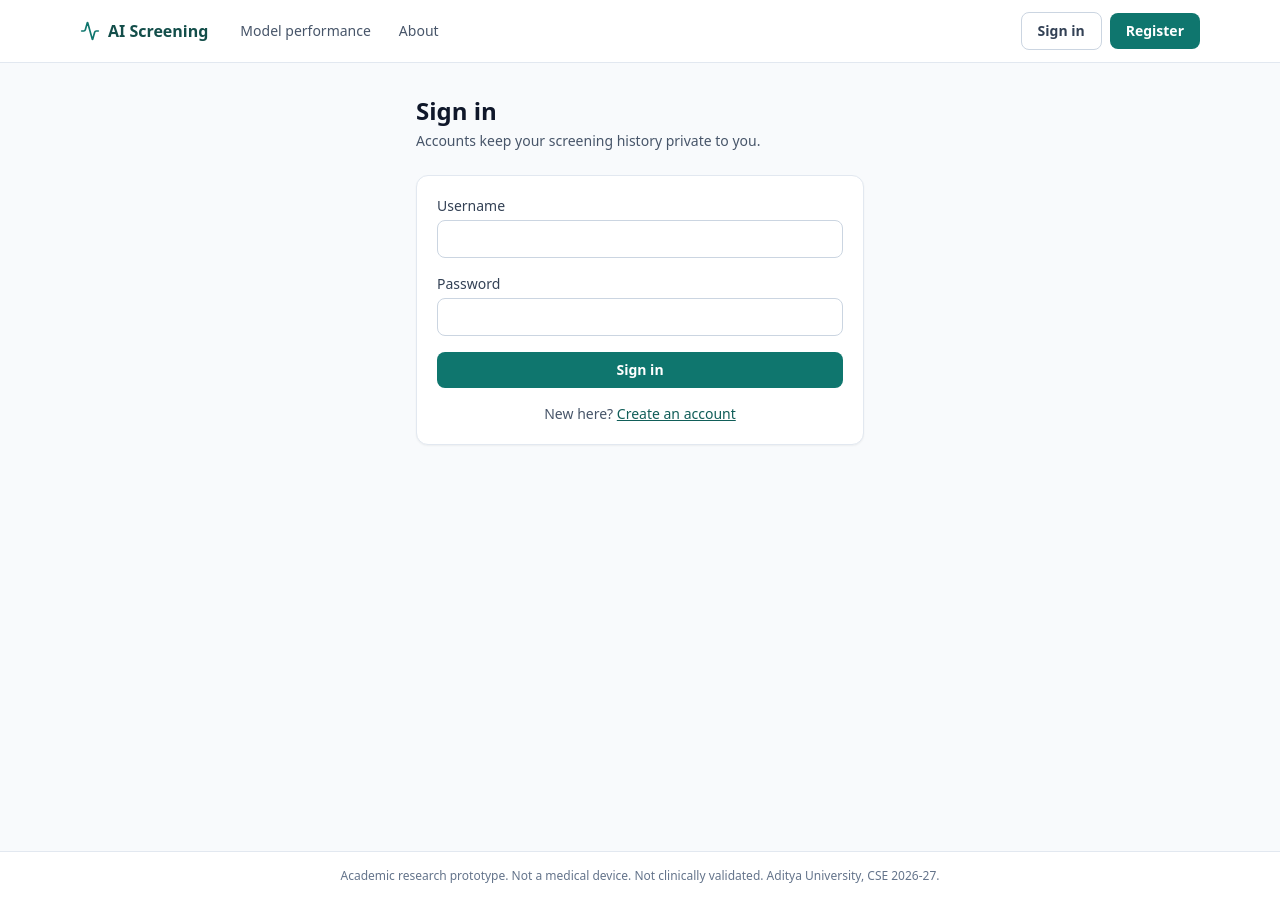
authentication › signs in, stores the token and lands on the dashboard
Type "alice" into the field labelled "Username".
click(640, 239); type("alice")  # box [437,220,843,258]
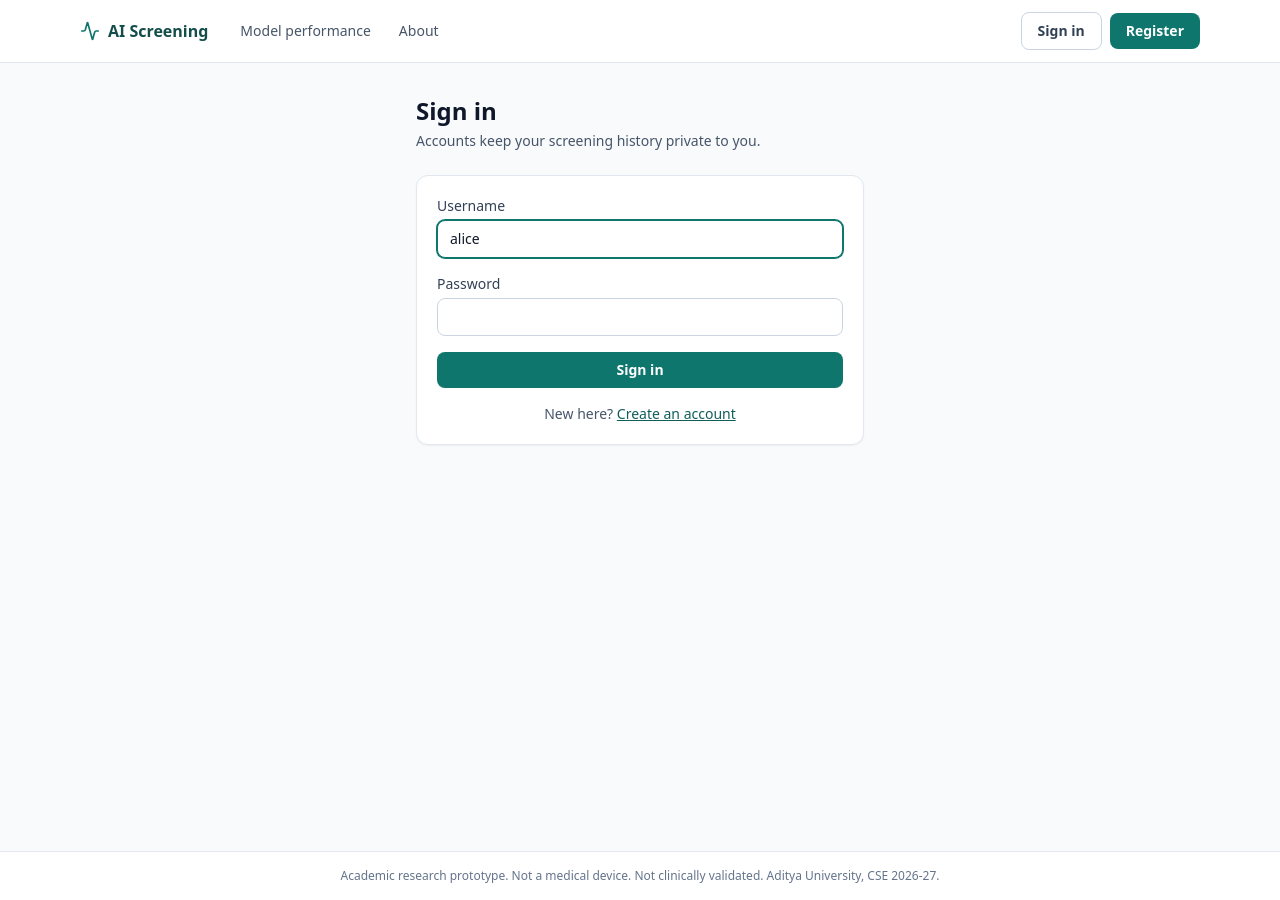
Type "correct-horse-1" into the password field labelled "Password".
click(640, 317); type("correct-horse-1")  # box [437,298,843,336]
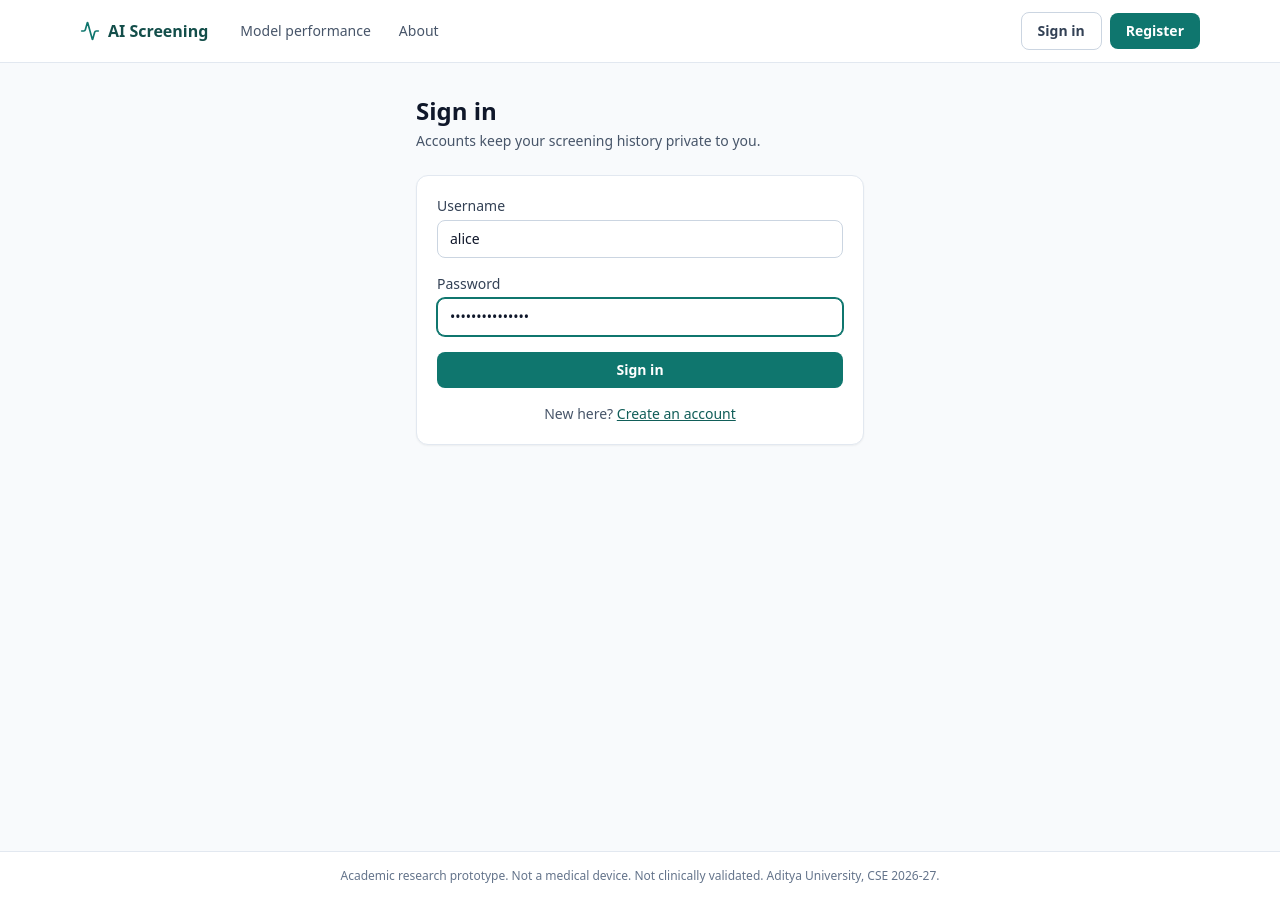
Click the button "Sign in".
click(640, 370)  # box [437,352,843,388]
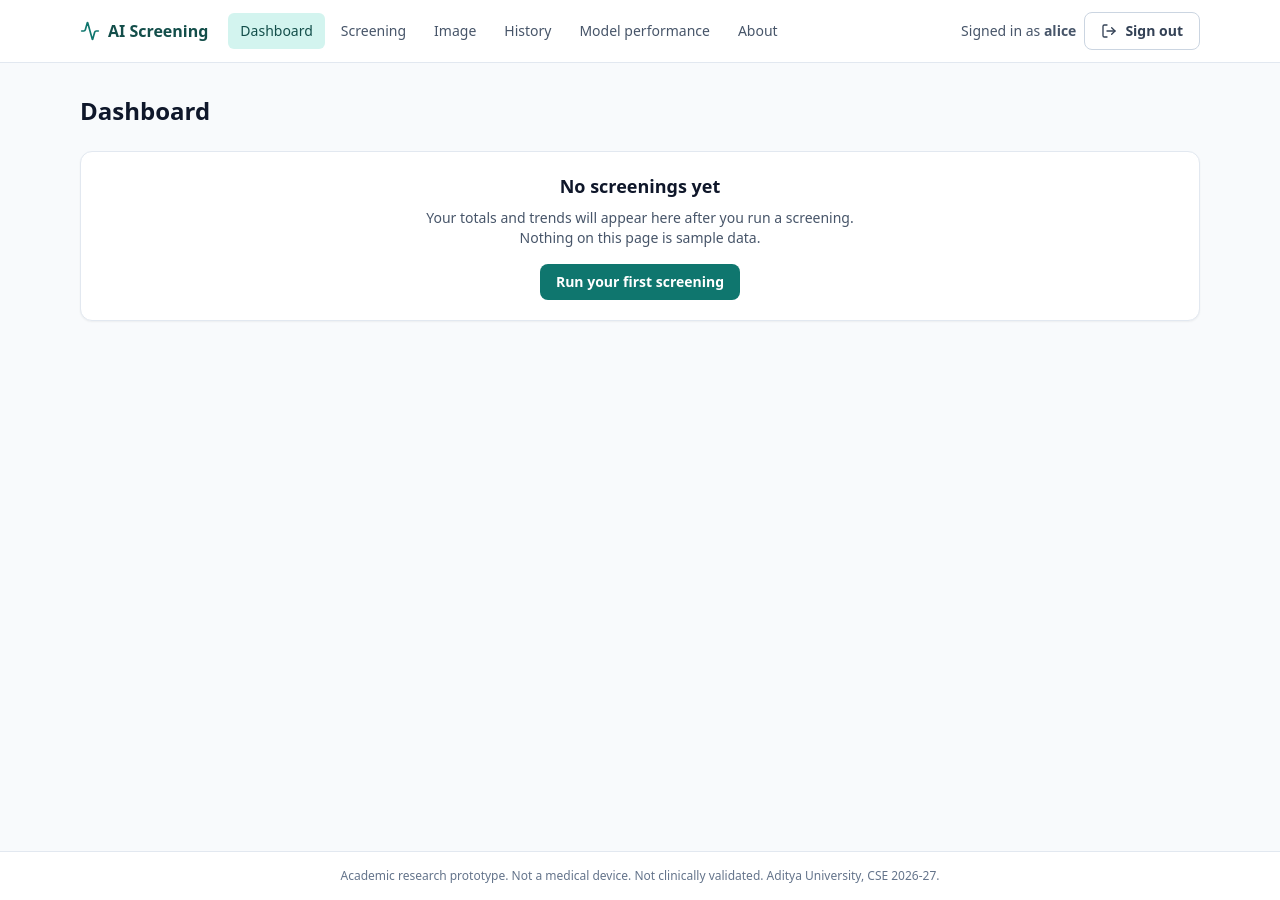
Now the heading "No screenings yet" is shown, box [560,174,720,198]
Now the text "Signed in as alice" is shown, box [961,21,1076,41]
